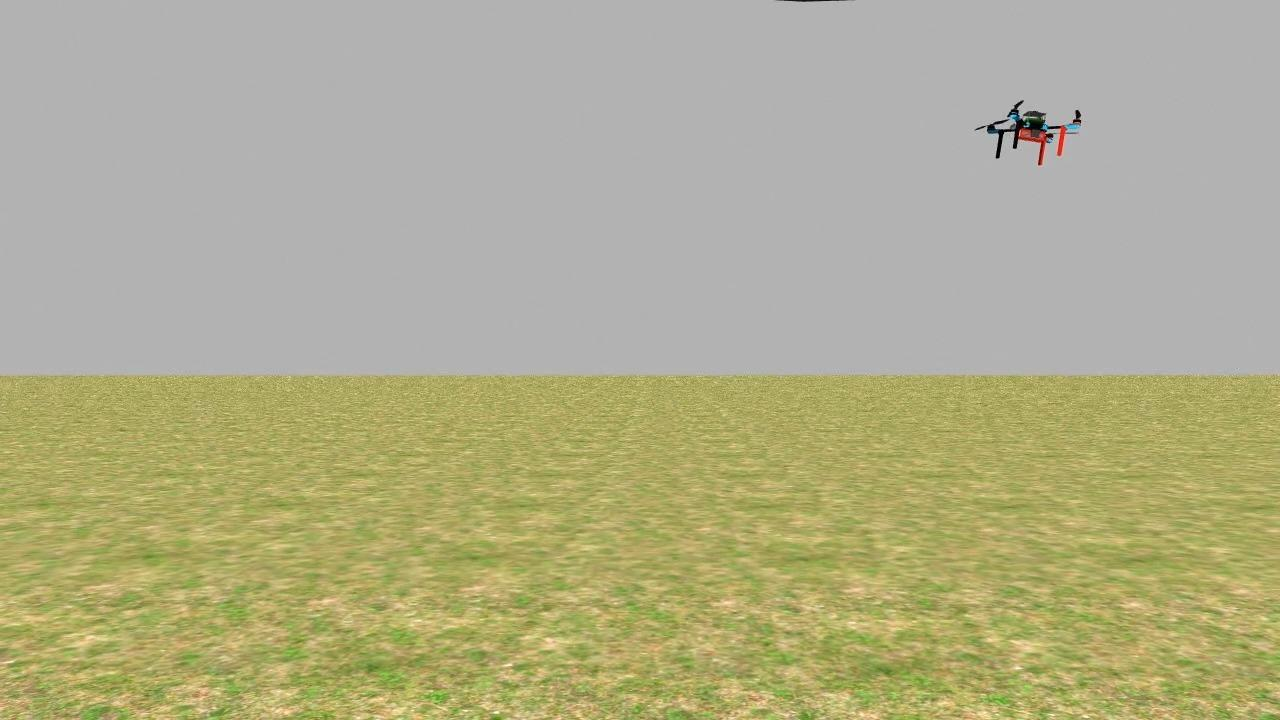UAV: (981, 104, 1088, 172)
